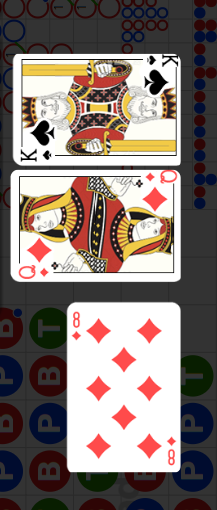6D: (164, 435, 176, 467)
8D: (70, 311, 82, 343)
QD: (134, 182, 181, 226), (14, 249, 60, 293)
